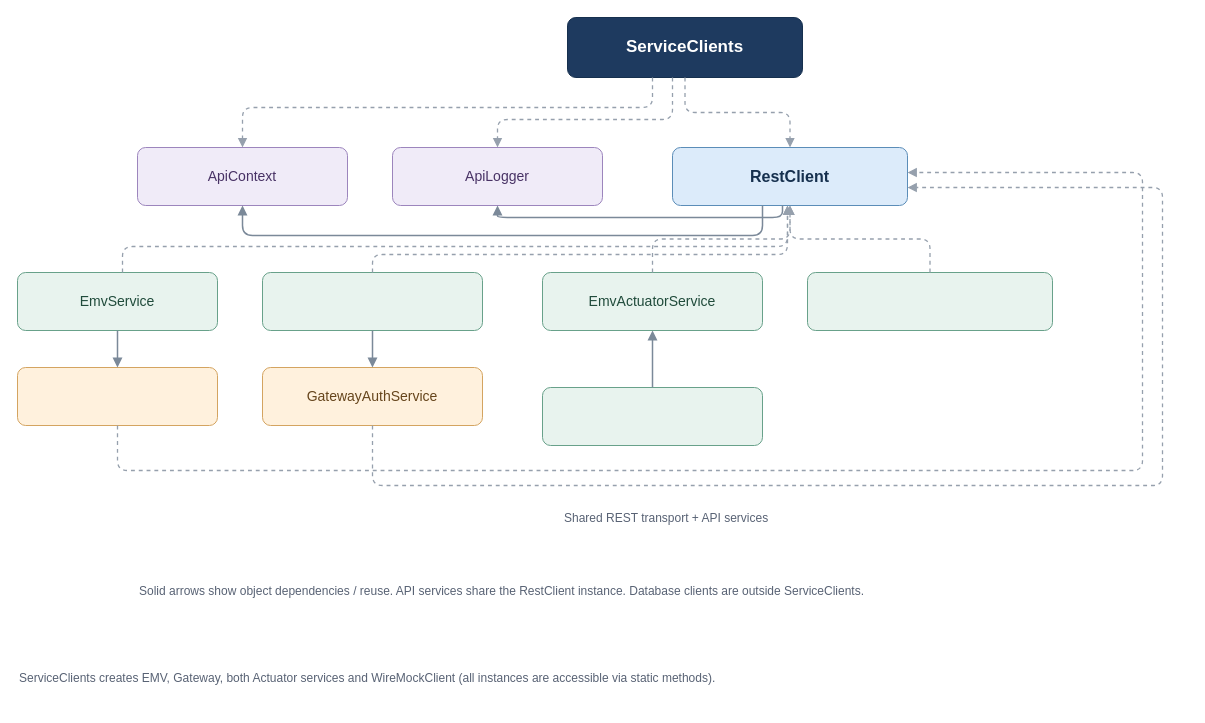
Some shapes in this 1205 by 723 pixel diagram are drawn without their labels. The box of each missing label's shape, as (x1, y1, x2, y2) in pixels:
EmvAuthService: (16, 366, 218, 426)
GatewayActuatorService: (806, 272, 1052, 330)
GatewayService: (262, 272, 482, 330)
WireMockClient: (542, 386, 762, 446)
